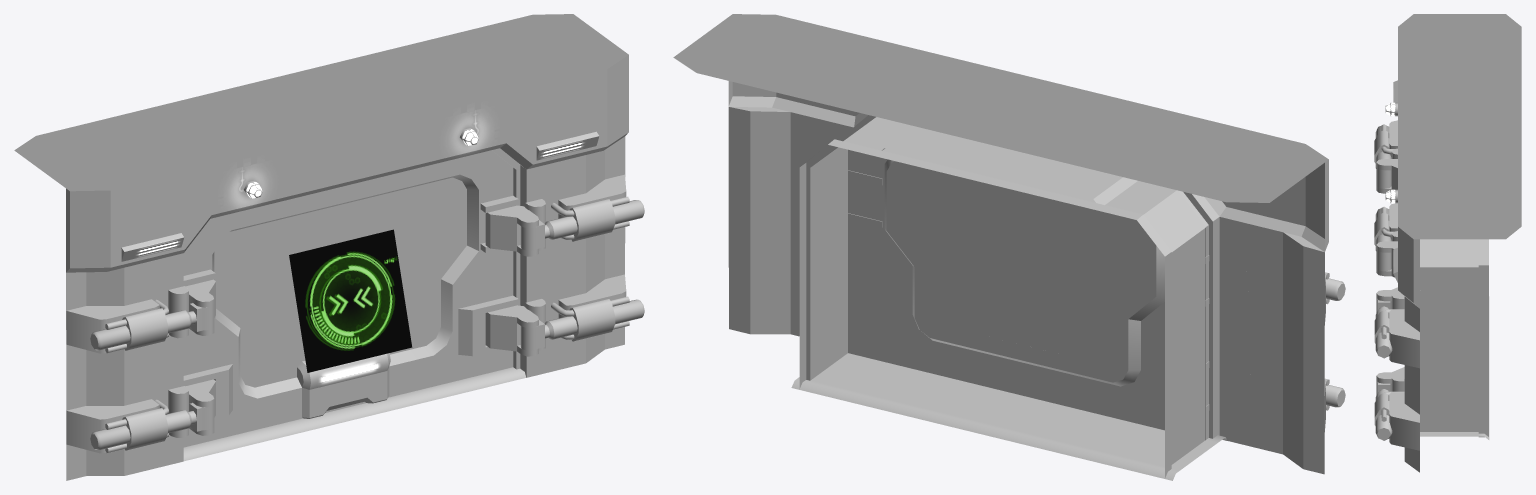
Rendered from door_2.fbx.
3 views of the same model, side by side, from view 1: azimuth 30°, elevation 25°; view 2: azimuth 150°, elevation 25°; view 3: azimuth 270°, elevation 25° (orthographic). The views are drawn at different scales.
Parts seen in each view (by area): view 1: Door_2_frame, Door_2_door, Door_2_cap, Door_2_hologram, door_2_pistons_left, door_2_pistons_right, door_2_clamps_right, door_2_clamps_left; view 2: Door_2_frame, Door_2_door, Door_2_cap, door_2_pistons_left; view 3: Door_2_cap, Door_2_frame, Door_2_door, door_2_pistons_right, door_2_pistons_left, door_2_clamps_left, door_2_clamps_right.
Boxes of the visible parts, x1,y1,x2,y2 form: Door_2_frame: (66,55,629,480); Door_2_door: (183,150,518,447); Door_2_cap: (14,14,628,191); Door_2_hologram: (289,229,412,372); door_2_pistons_left: (90,303,214,450); door_2_pistons_right: (520,199,644,350); door_2_clamps_right: (485,205,538,356); door_2_clamps_left: (186,279,215,435); Door_2_frame: (728,81,1329,480); Door_2_door: (843,117,1209,440); Door_2_cap: (673,14,1328,202); door_2_pistons_left: (1326,278,1345,407); Door_2_cap: (1398,14,1521,239); Door_2_frame: (1381,80,1489,472); Door_2_door: (1420,239,1478,328); door_2_pistons_right: (1374,298,1392,440); door_2_pistons_left: (1374,125,1391,271); door_2_clamps_left: (1376,159,1397,277); door_2_clamps_right: (1376,287,1404,391).
Size of the model in its own units: 8 by 4 by 2.2.
